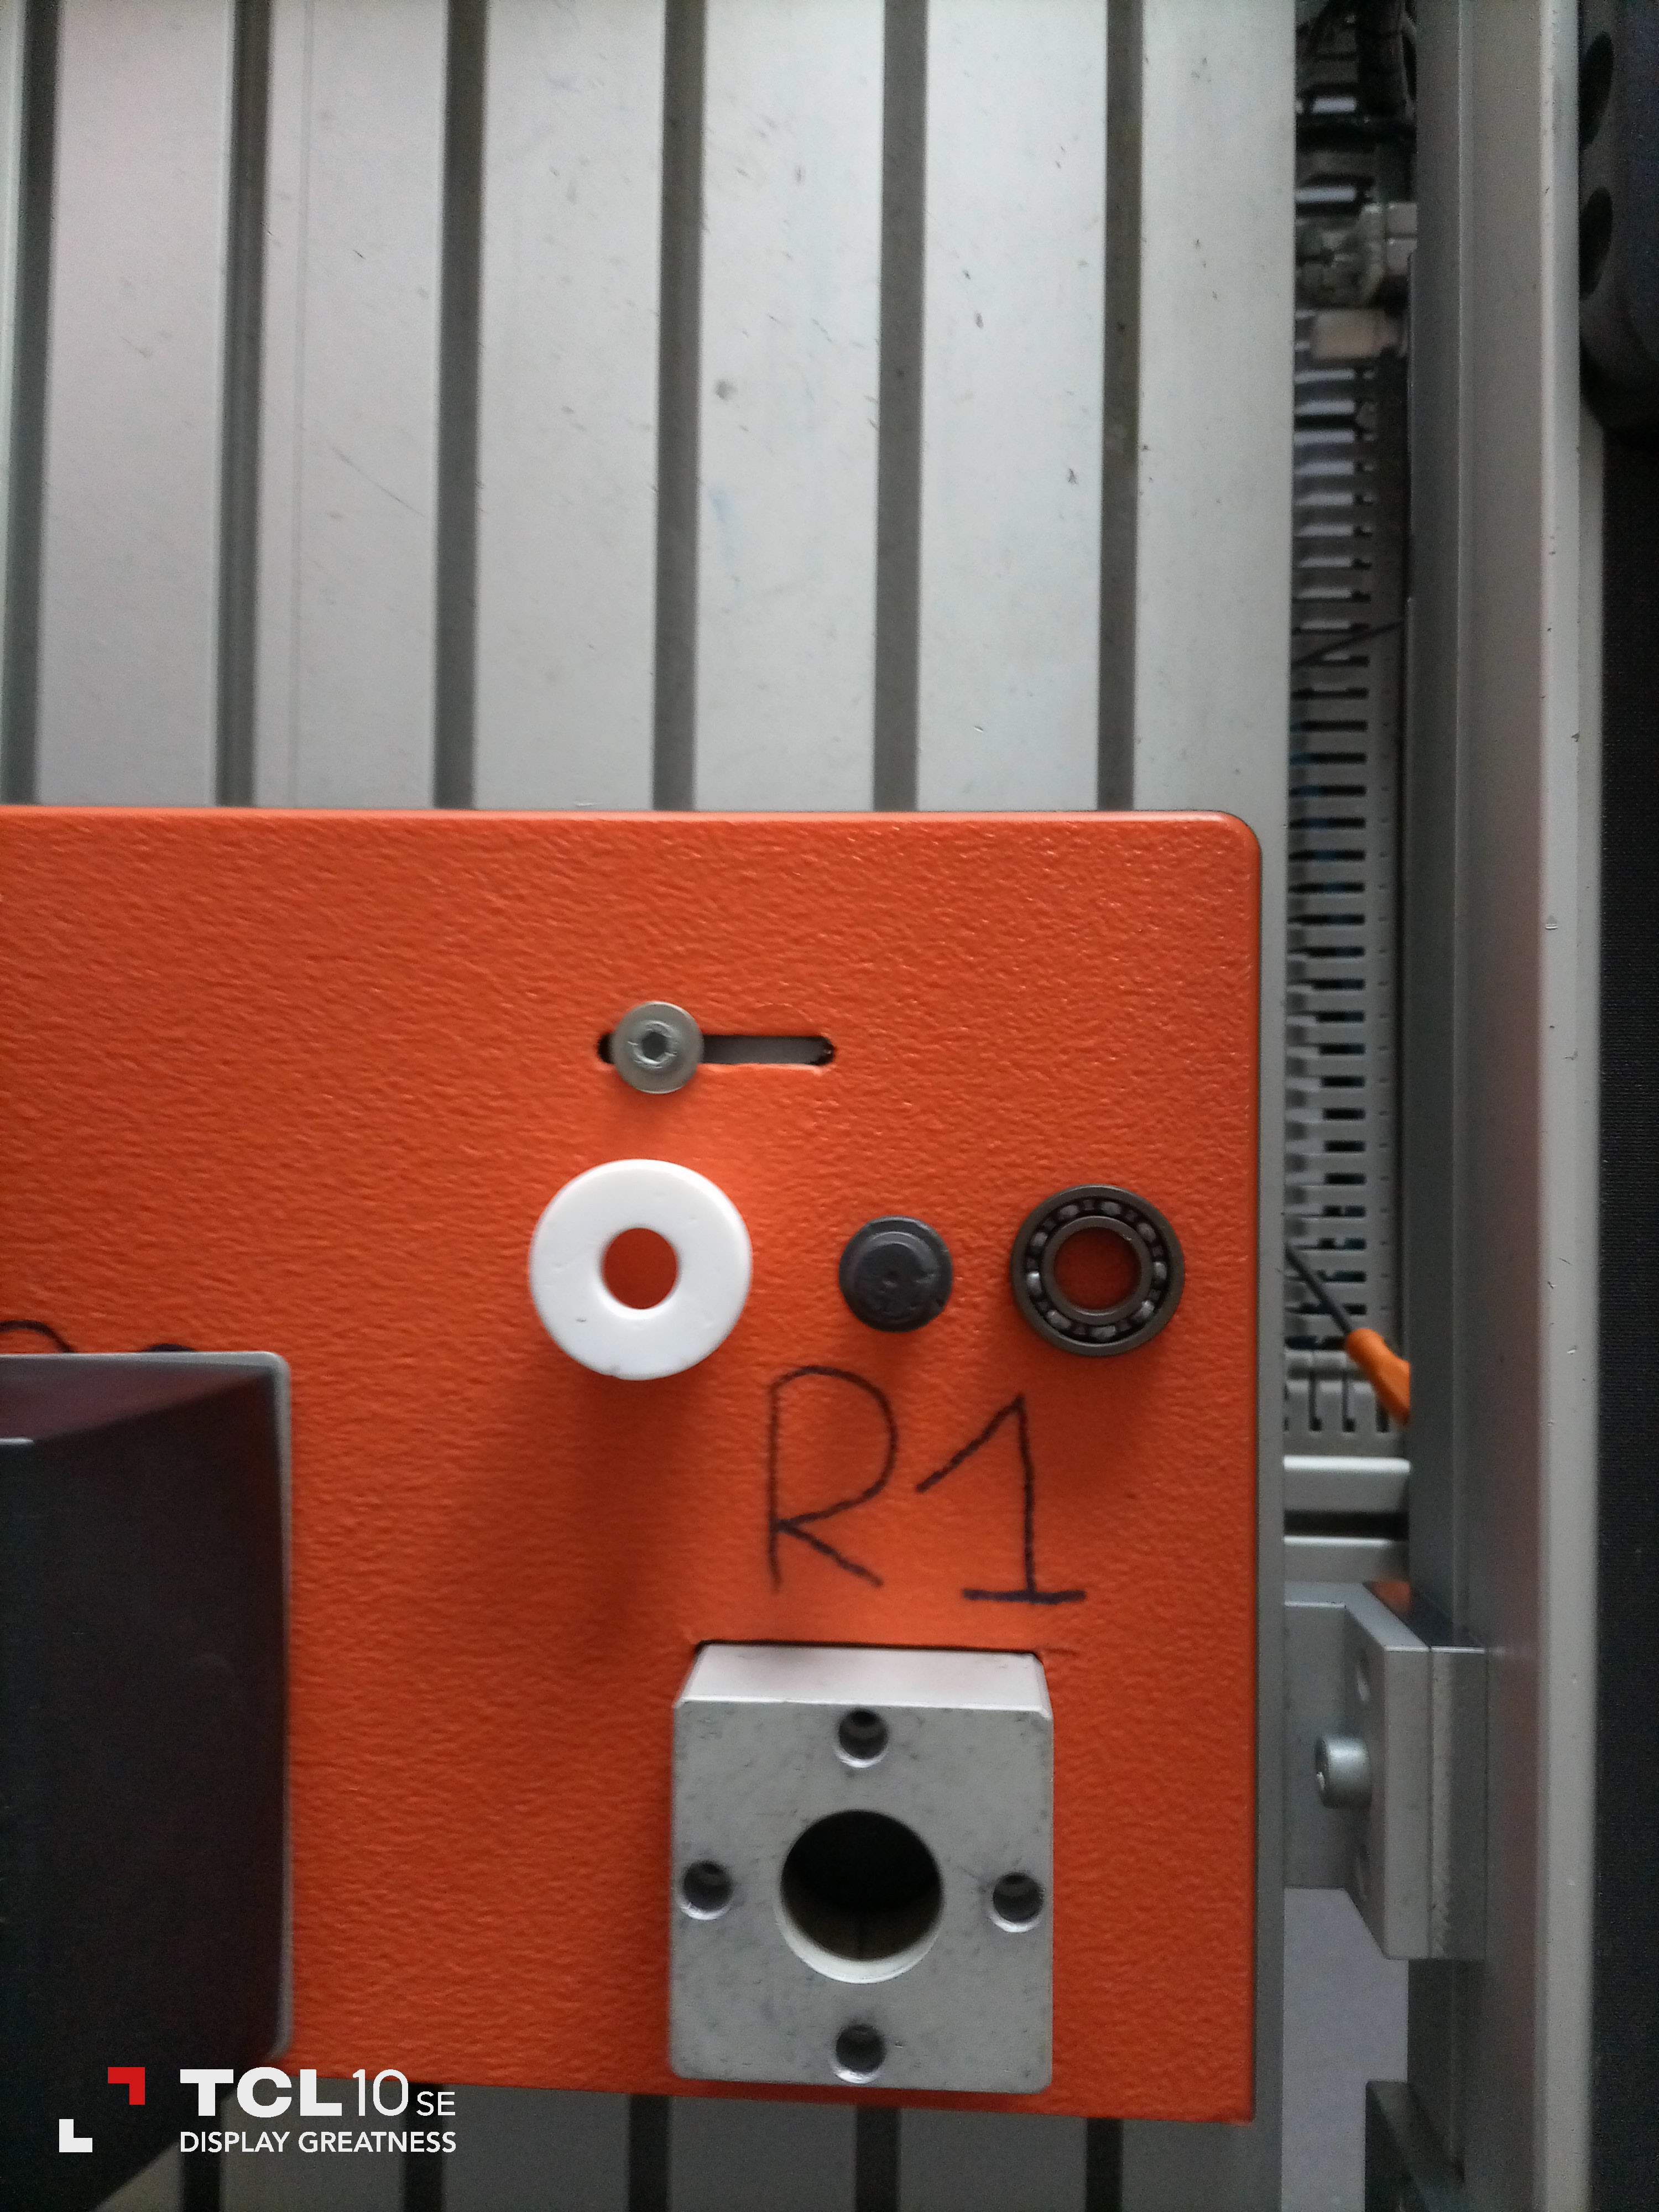Ardatza: (833, 1212, 962, 1345)
Roda: (999, 1172, 1183, 1367)
Tapa: (526, 1153, 753, 1390)
